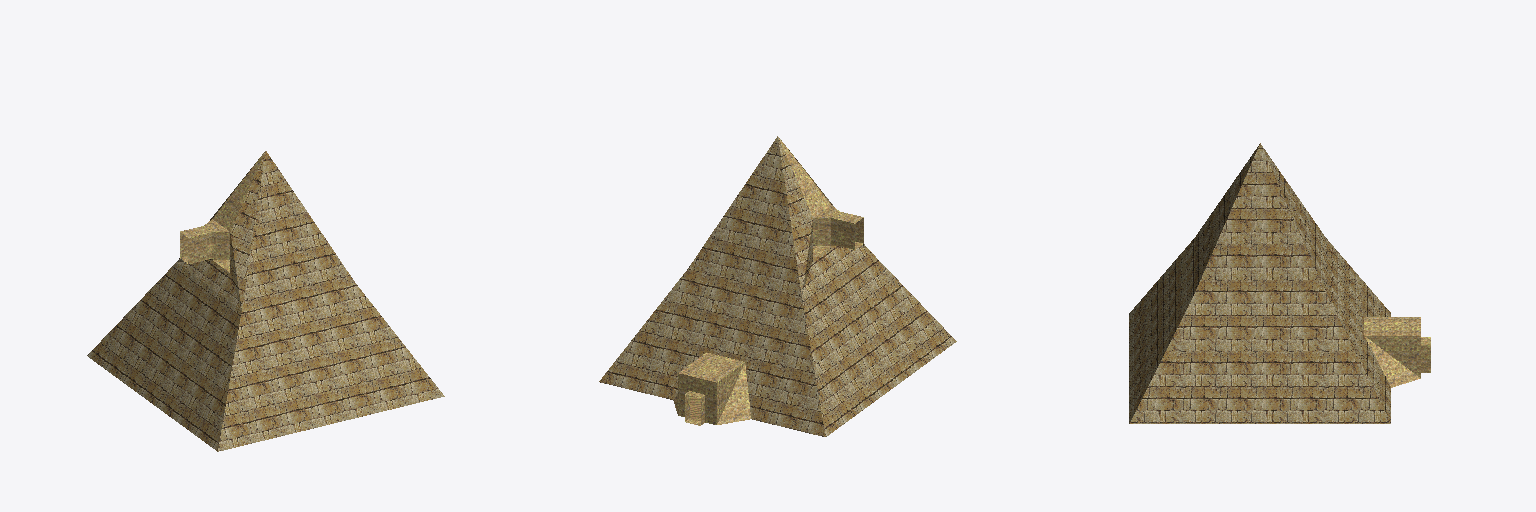
3 views of the same model, side by side, from view 1: azimuth 30°, elevation 25°; view 2: azimuth 150°, elevation 25°; view 3: azimuth 270°, elevation 25° (orthographic).
Parts seen in each view (by area): view 1: mesh.005__197, mesh.005__231.005; view 2: mesh.005__197, mesh.005__231.005; view 3: mesh.005__197, mesh.005__231.005.
Boxes of the visible parts, <box> form: mesh.005__197: <box>87,151,444,451</box>; mesh.005__231.005: <box>180,152,264,272</box>; mesh.005__197: <box>599,136,956,436</box>; mesh.005__231.005: <box>673,138,863,425</box>; mesh.005__197: <box>1129,143,1390,423</box>; mesh.005__231.005: <box>1364,317,1430,387</box>.
Bounding box in the file's own units: 899 × 855 × 1034.
4 materials, 4 textured.